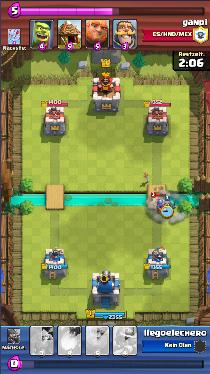ally_mini_pekka: (163, 200, 177, 211)
enemy_musketeer: (155, 199, 166, 215)
